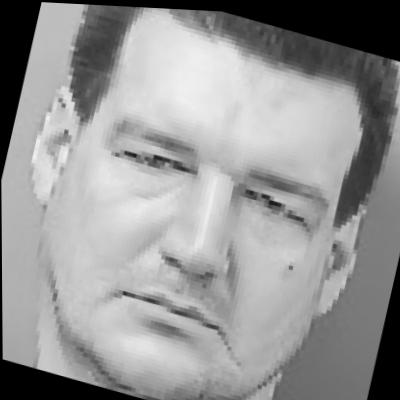sad: (23, 1, 382, 400)
